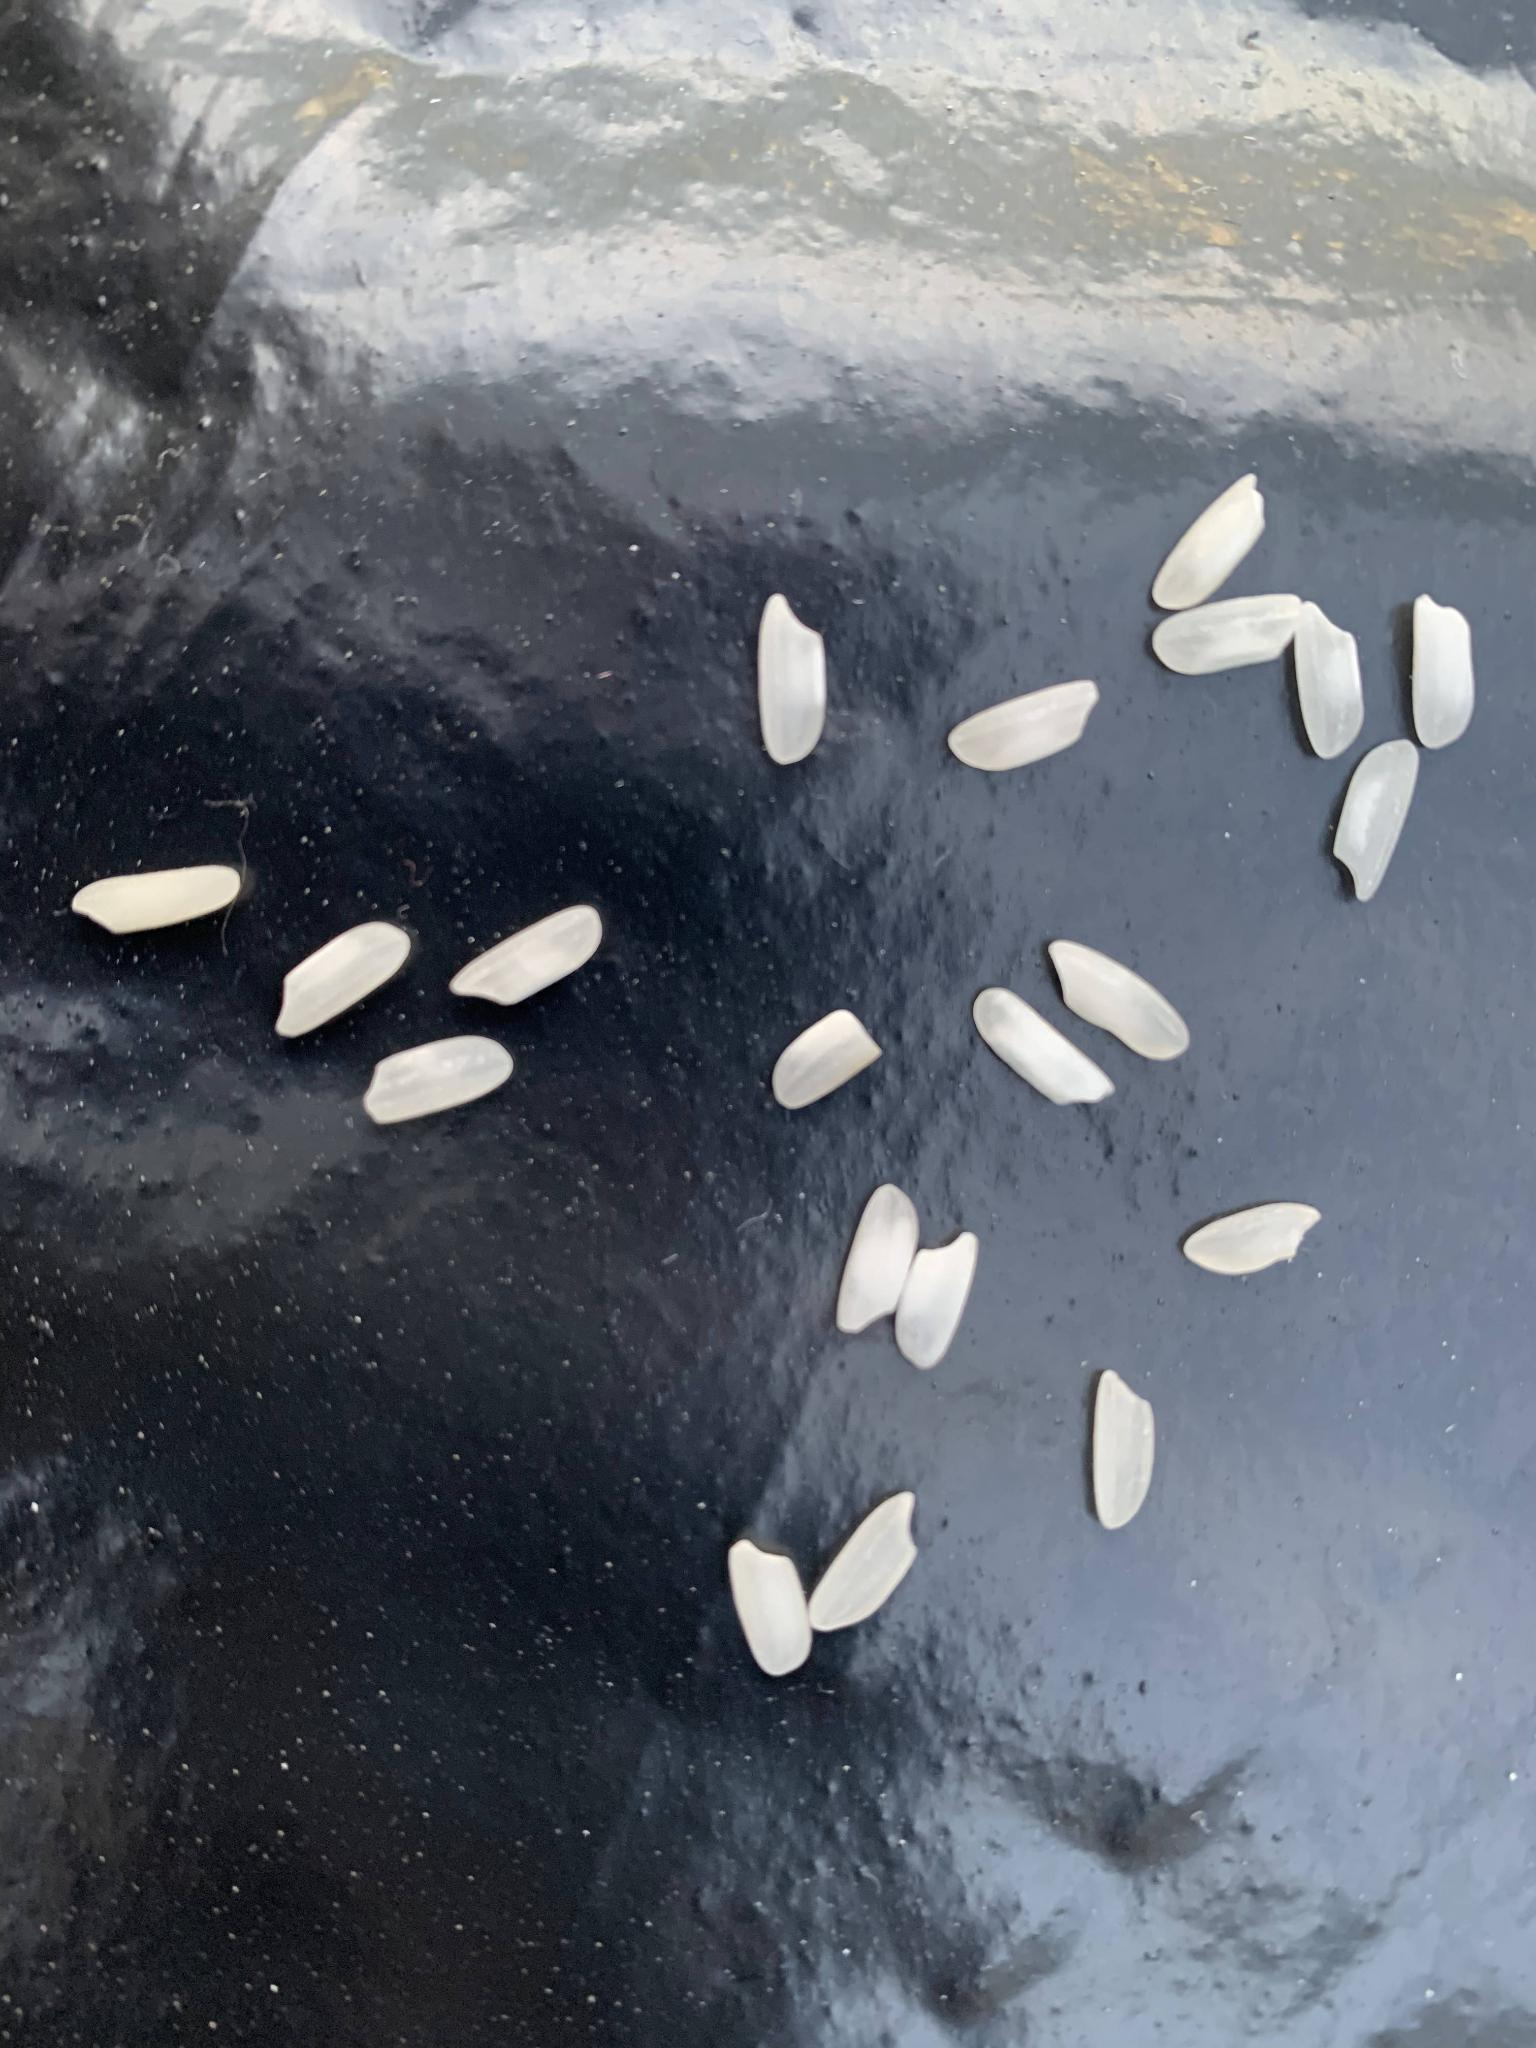rice: (1046, 937, 1192, 1064), (971, 985, 1118, 1106), (1149, 469, 1267, 610), (274, 921, 411, 1040), (807, 1492, 918, 1634), (449, 905, 602, 1006), (1329, 739, 1420, 908), (945, 677, 1099, 776), (363, 1035, 515, 1127), (836, 1182, 920, 1334), (757, 590, 829, 764), (69, 863, 240, 935), (1150, 593, 1300, 676), (770, 1006, 886, 1109), (894, 1234, 979, 1372), (728, 1538, 812, 1679), (1412, 589, 1478, 753), (1183, 1201, 1325, 1276), (1299, 600, 1363, 761), (1091, 1371, 1155, 1530)
